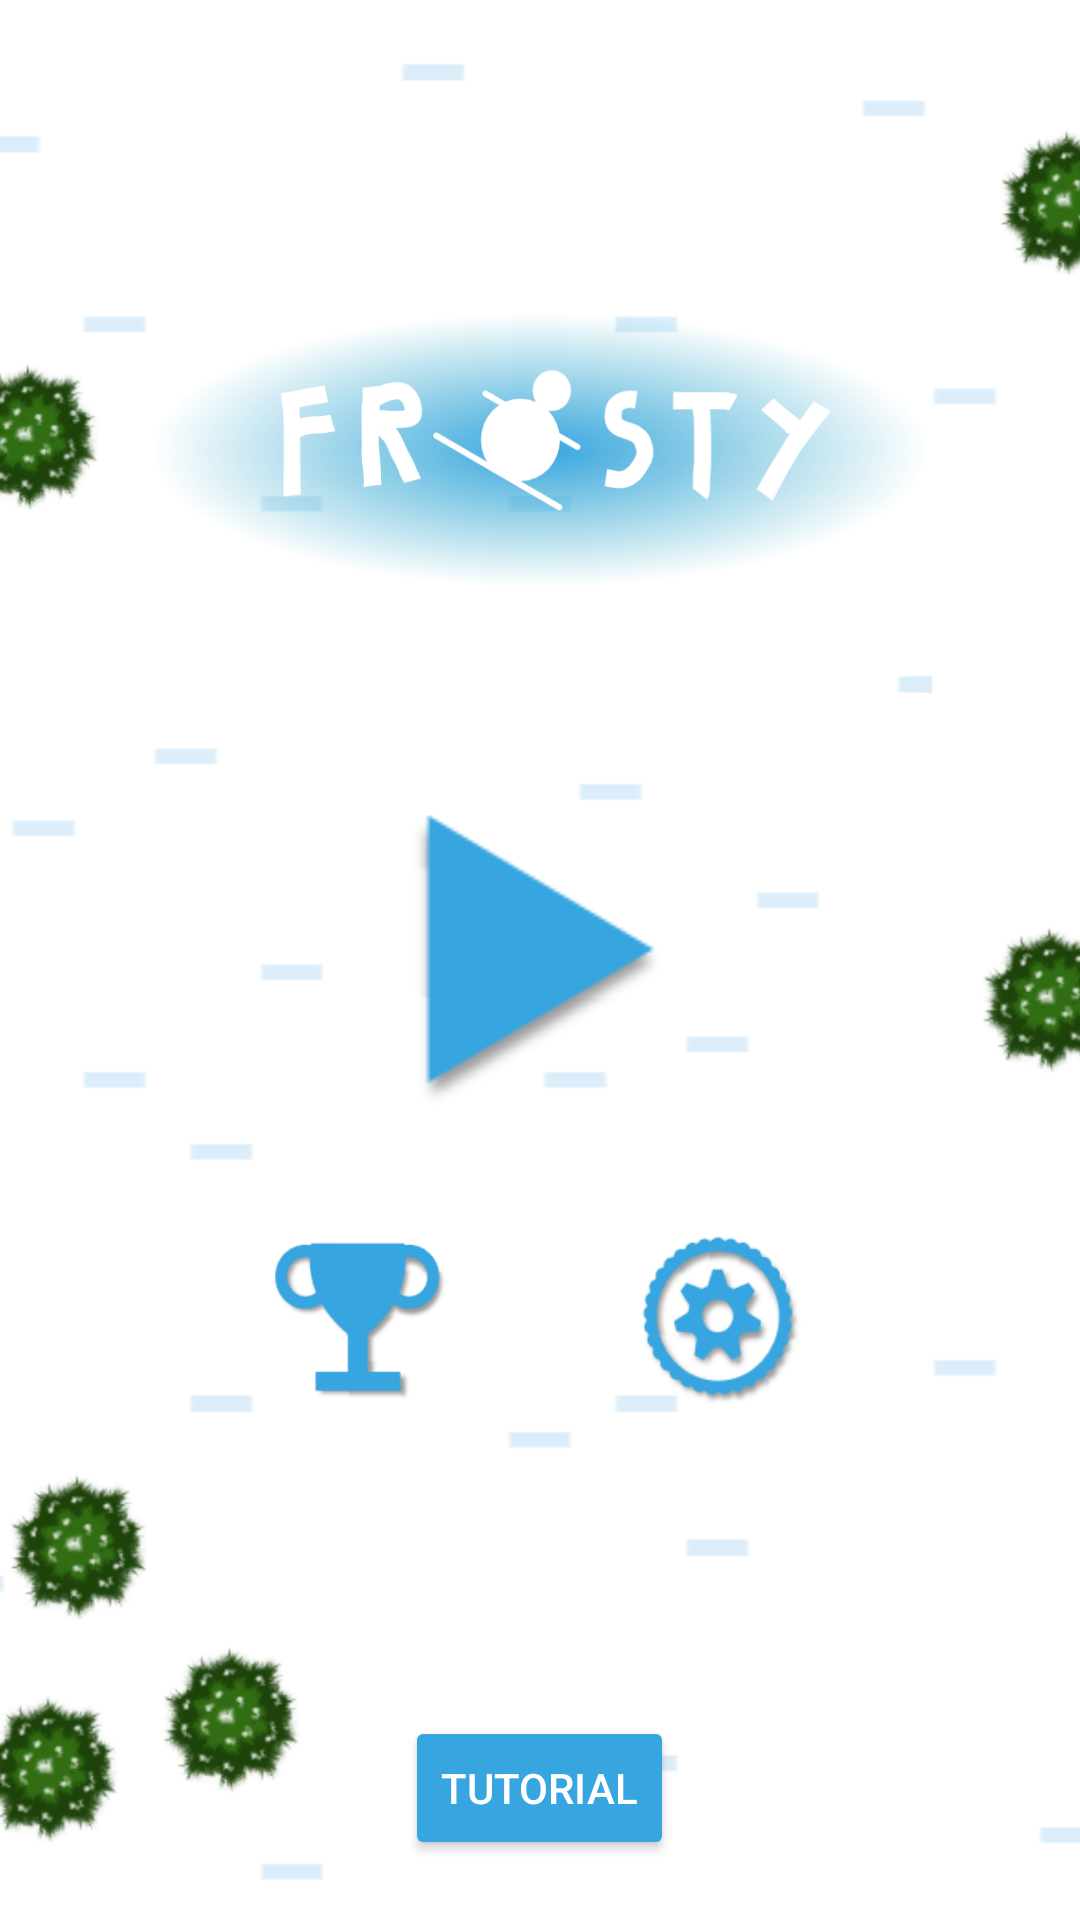

Point at icon controls on the screen. Image size 1080w x 1920h, points as (x,y).
play sld: (538,954)
scores sld: (359,1320)
settings sld: (719,1318)
